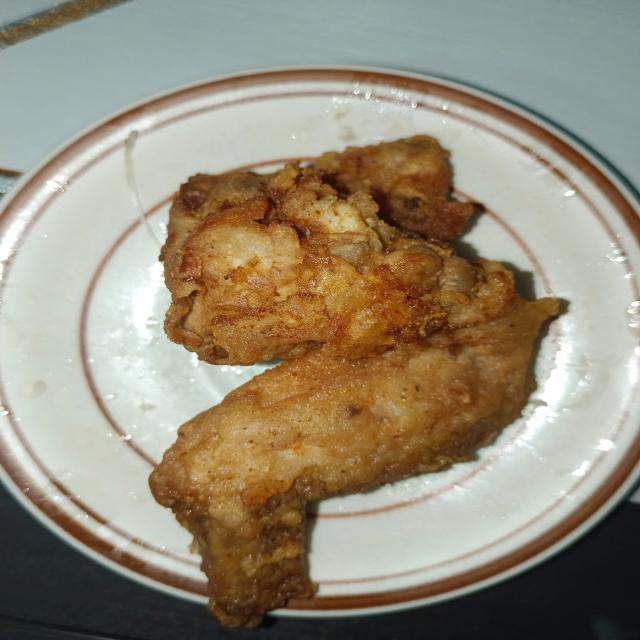Chicken -Fried Chicken-: (131, 125, 576, 626)
